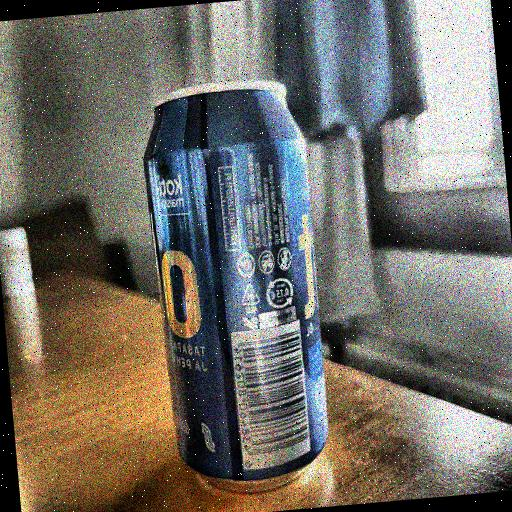koti: (123, 68, 338, 509)
